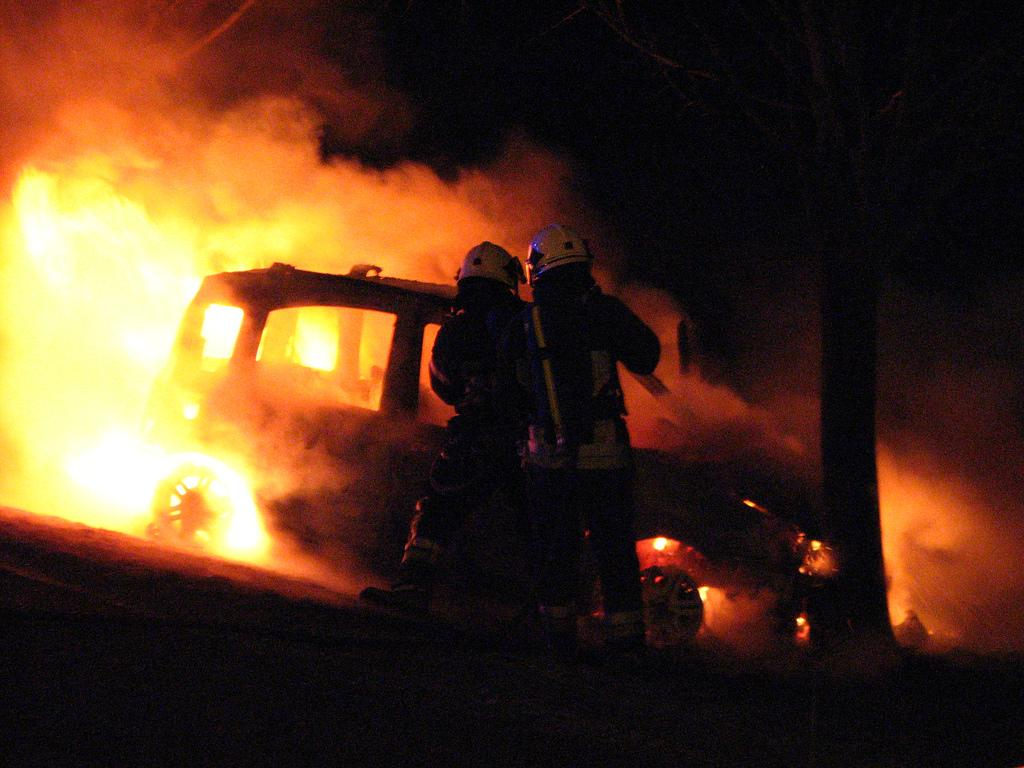fire: (28, 202, 230, 526)
